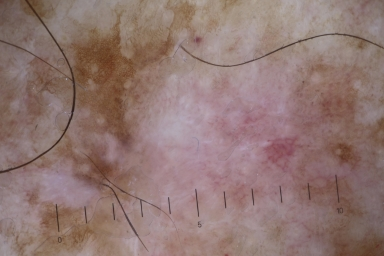melanoma: (214, 57, 384, 219), (18, 31, 188, 188), (15, 201, 129, 256)
